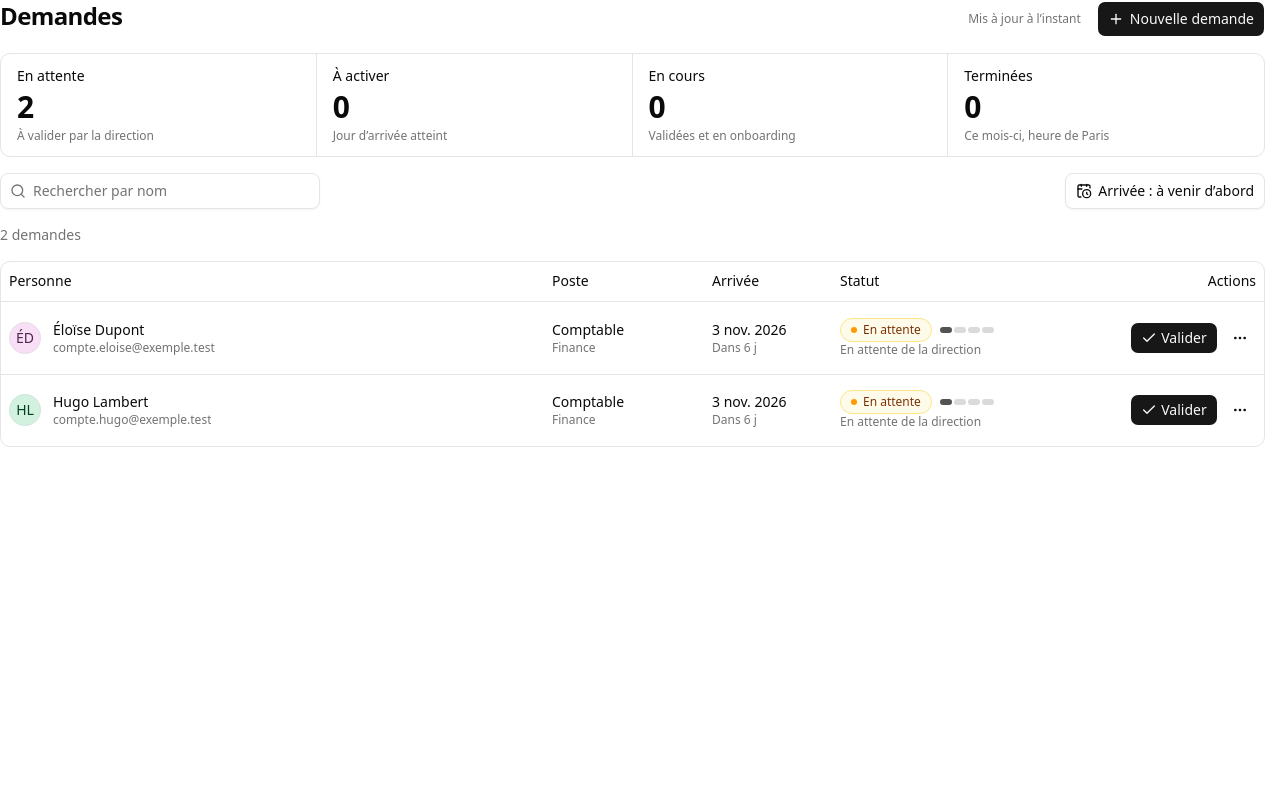
Test case: autres actions › Refuser : la ligne est retirée comme avant, sans indicateur
Expected: the link "Hugo Lambert" is shown, [53,392,148,412]
Click the button named "Autres actions pour Éloïse Dupont".
click(1240, 338)  # box [1224,322,1256,354]
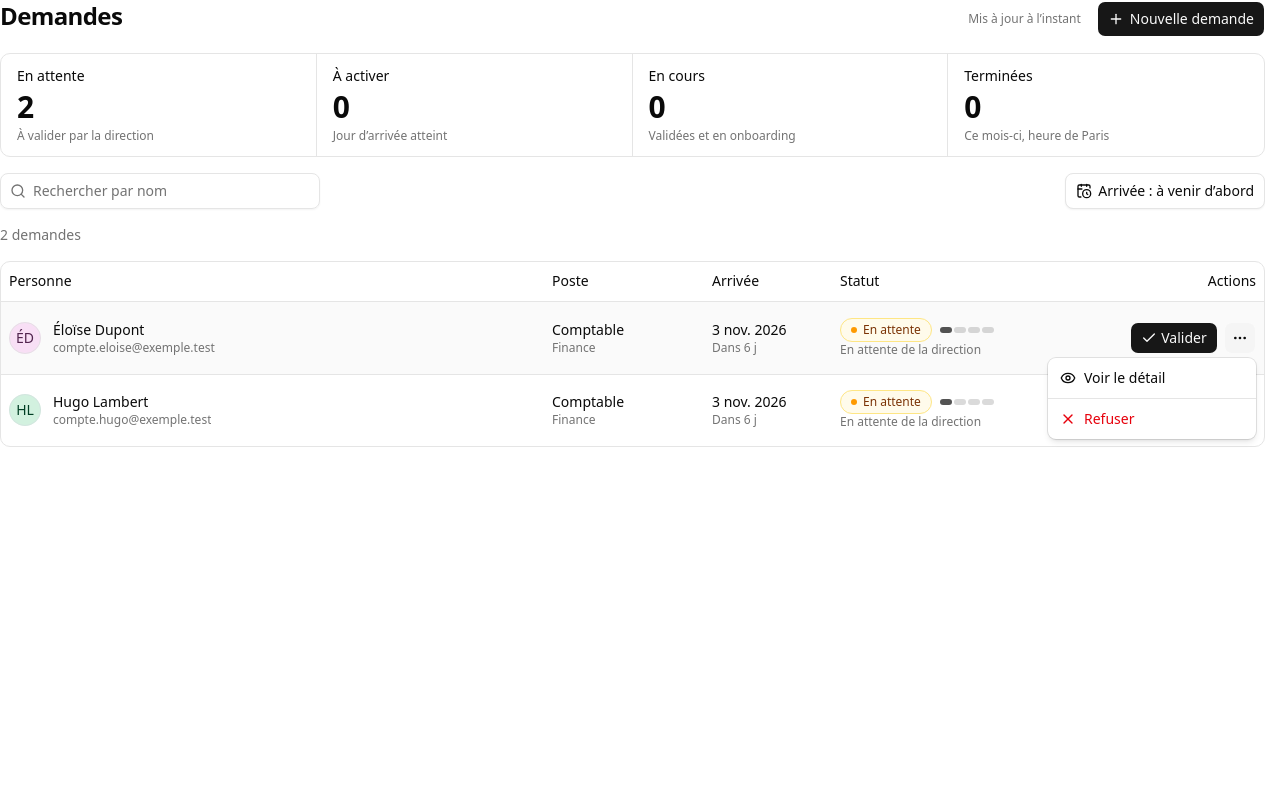
Click the menu item with aria-label "Refuser la demande de Éloïse Dupont".
click(1097, 418)  # box [1060,409,1134,428]
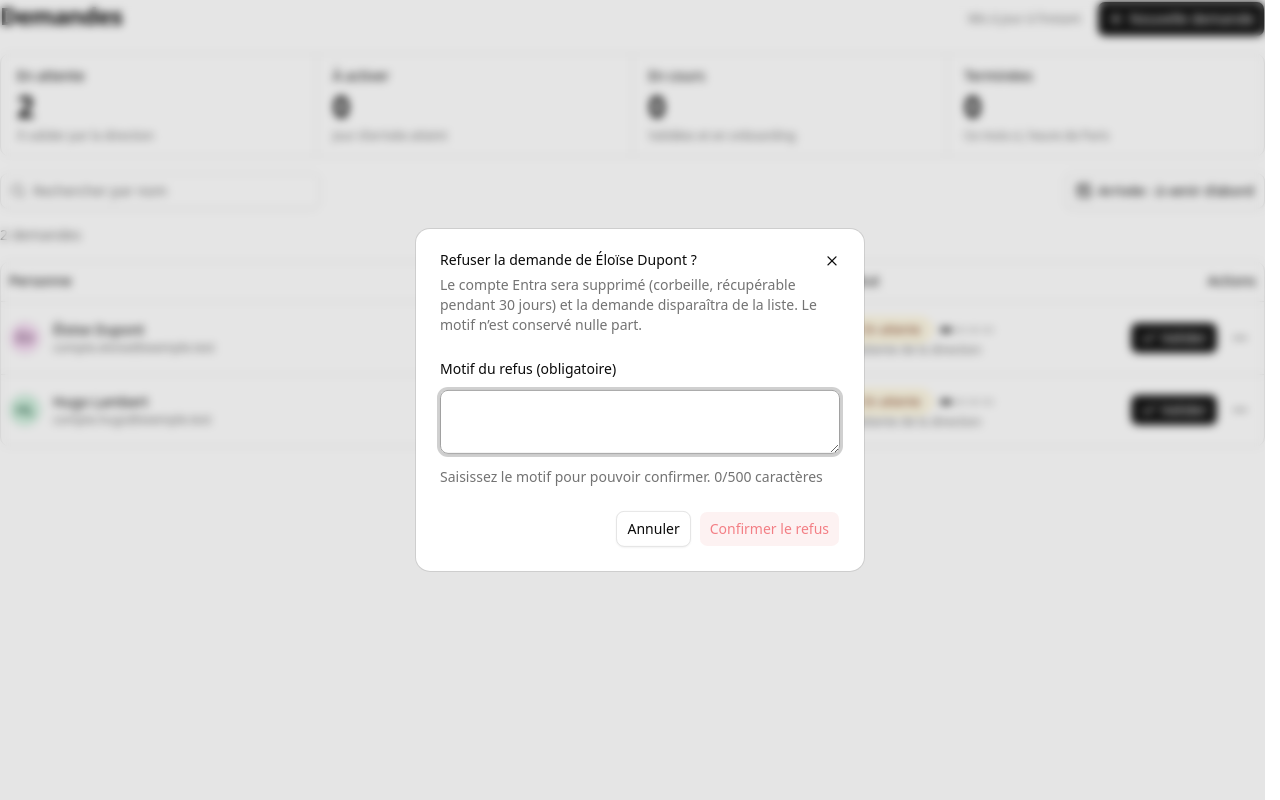
Type "Raison" into the text box labelled "Motif du refus (obligatoire)".
click(640, 422); type("Raison")  # box [440,390,840,454]
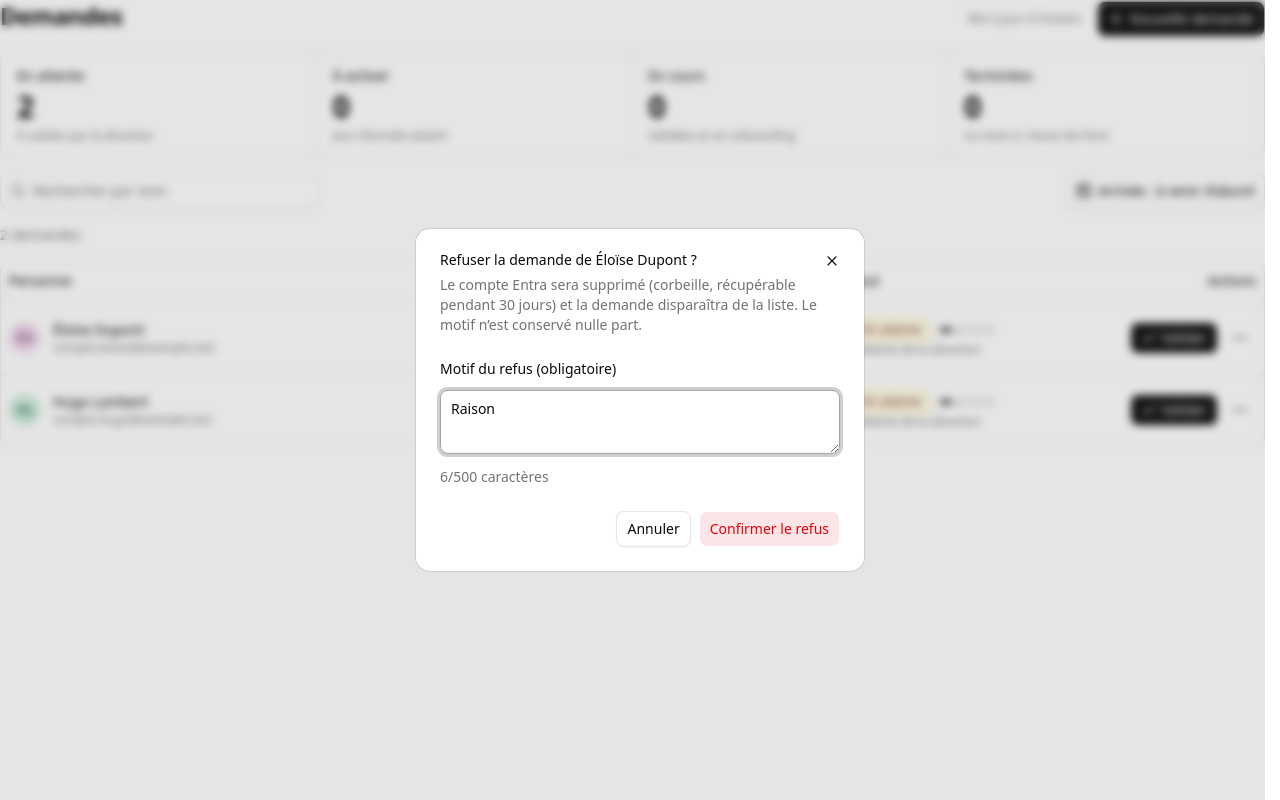
Click the button "Confirmer le refus".
click(769, 529)  # box [699,511,840,547]
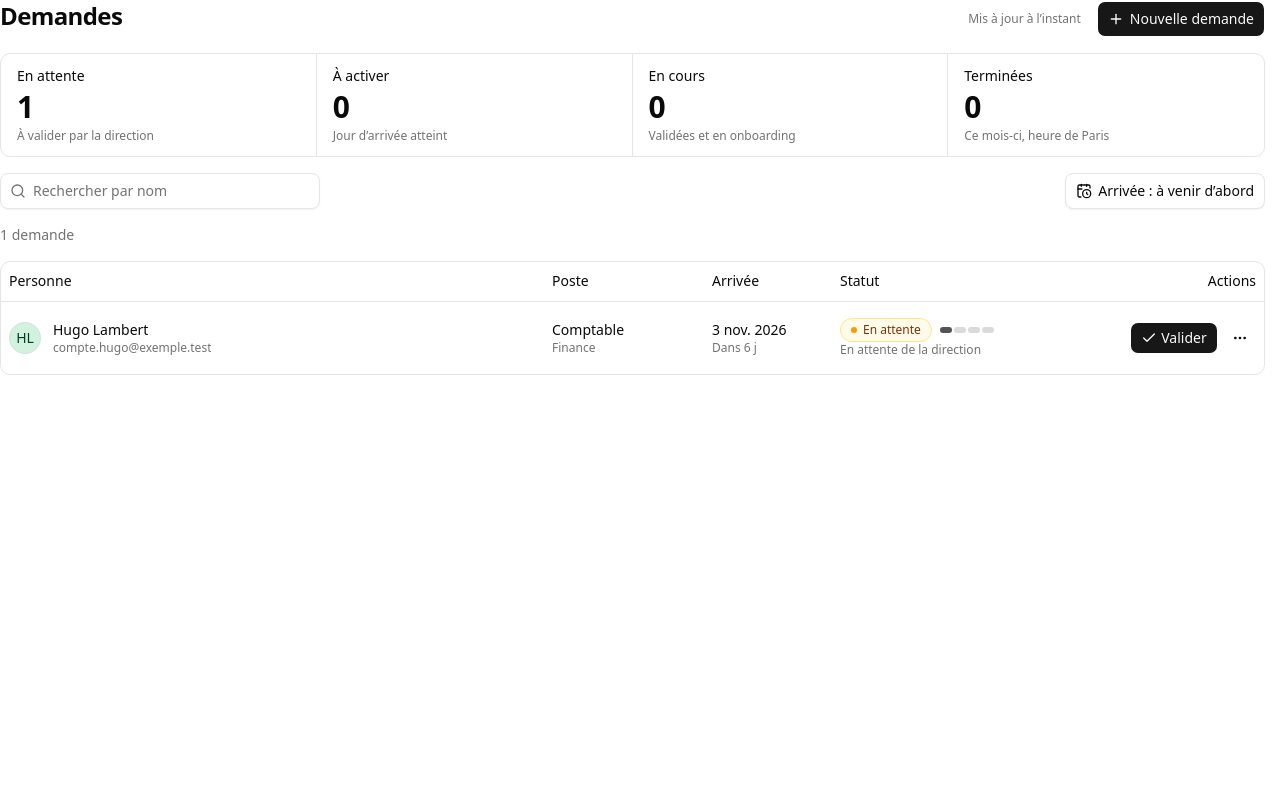
Now the link "Éloïse Dupont" is gone
